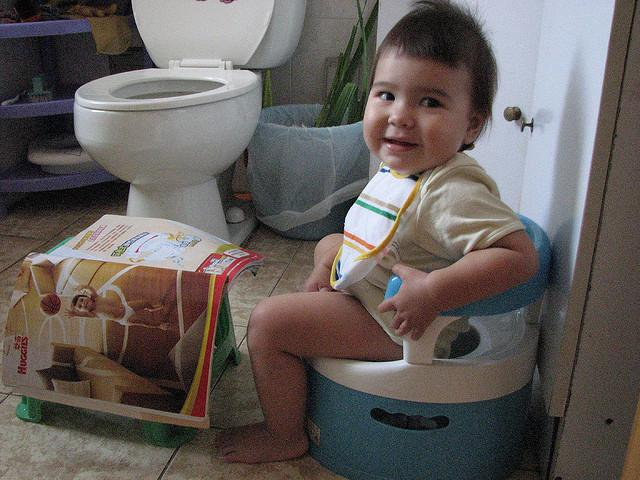Bote de Basura: (252, 103, 380, 255)
Sanitario: (290, 211, 543, 474), (69, 5, 307, 267)
